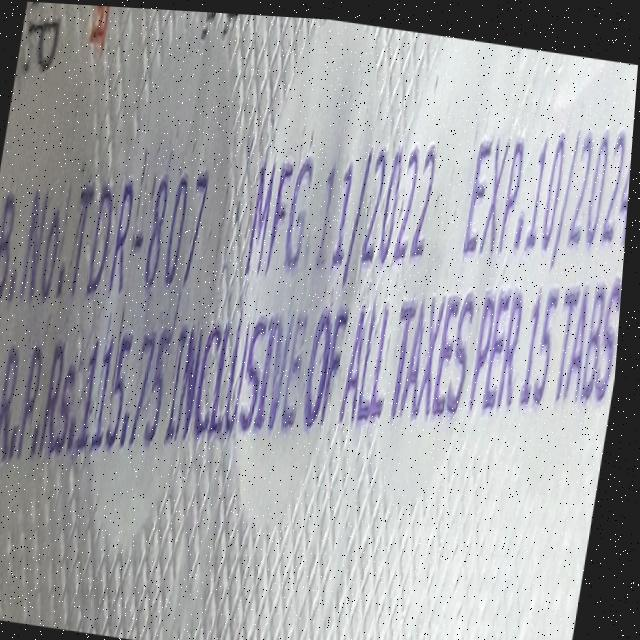sentence: (0, 95, 635, 311), (0, 268, 626, 462)
